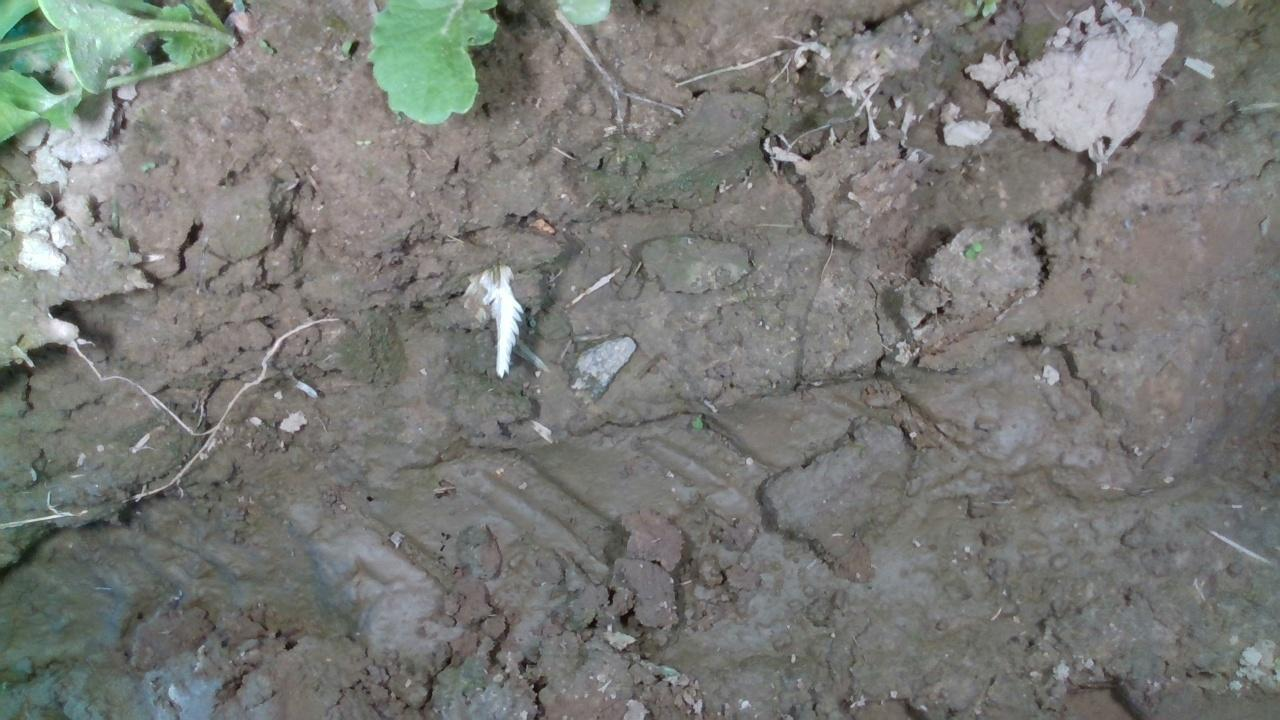weed: (962, 239, 981, 259)
